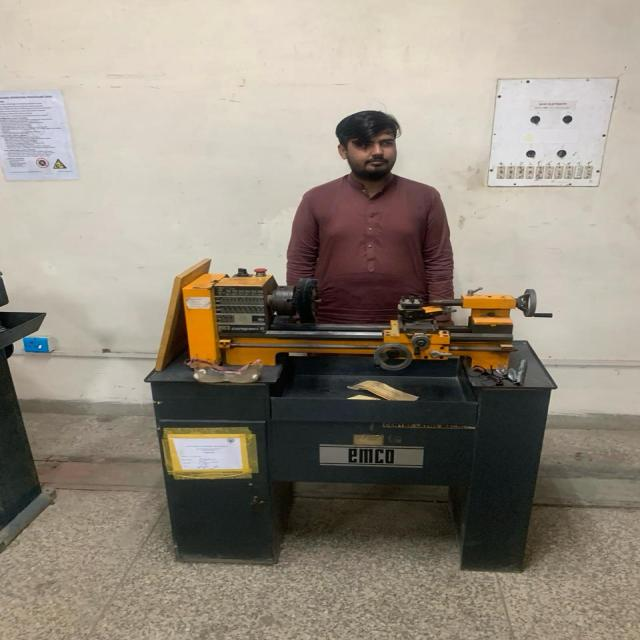dress: (282, 164, 462, 329)
